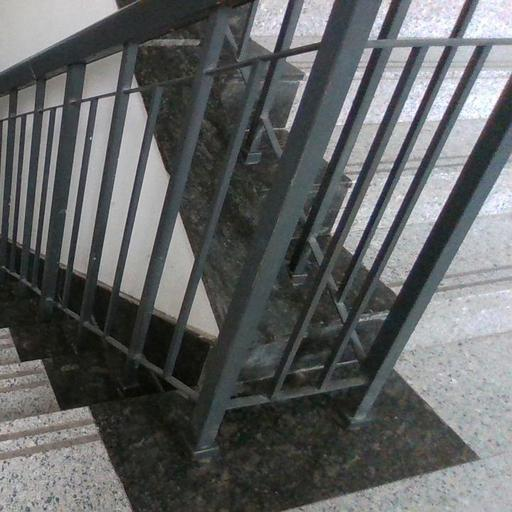stairs: (0, 279, 161, 511), (0, 408, 131, 511)
